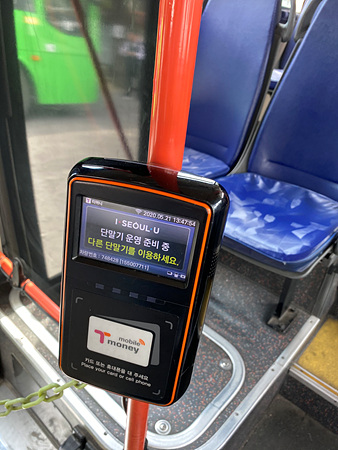terminal: (64, 167, 203, 392)
